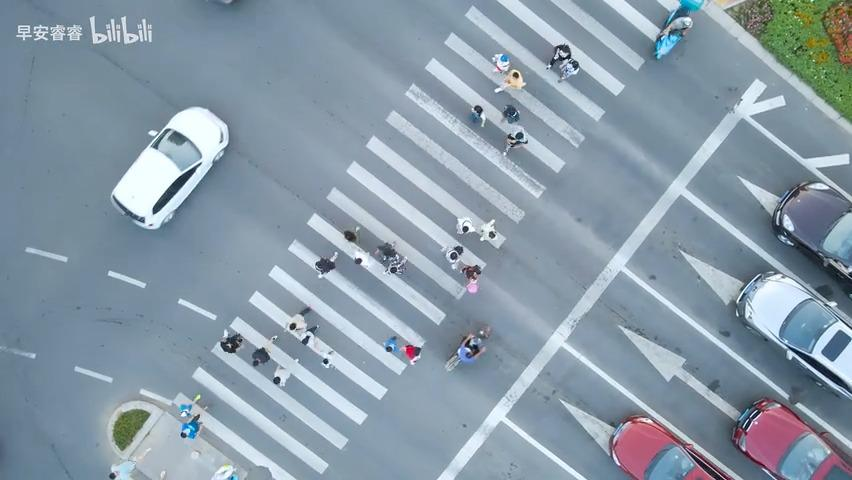Civilian: (108, 447, 152, 479), (502, 122, 528, 156), (545, 42, 573, 73), (658, 15, 693, 39), (493, 68, 526, 93), (457, 333, 485, 362), (272, 357, 299, 387), (251, 335, 277, 366), (314, 251, 338, 278), (440, 244, 463, 270), (180, 412, 202, 438), (220, 329, 243, 353), (557, 58, 579, 82), (179, 394, 201, 417), (383, 253, 407, 274), (400, 343, 421, 365), (376, 240, 397, 261), (211, 463, 238, 479), (479, 218, 496, 241), (491, 53, 510, 73), (500, 103, 519, 123), (251, 346, 270, 366), (286, 321, 306, 340), (301, 324, 319, 345), (470, 104, 486, 127), (461, 264, 481, 282), (455, 216, 475, 234), (343, 226, 360, 243), (320, 350, 334, 368), (384, 335, 398, 352)
